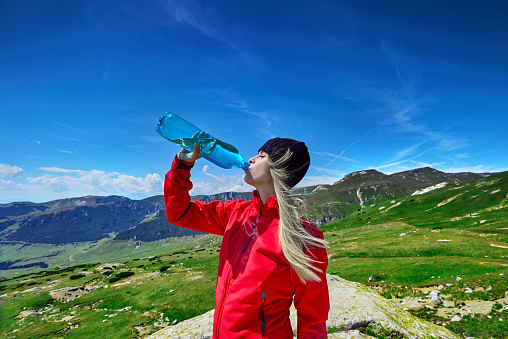em pe: (159, 118, 326, 336)
